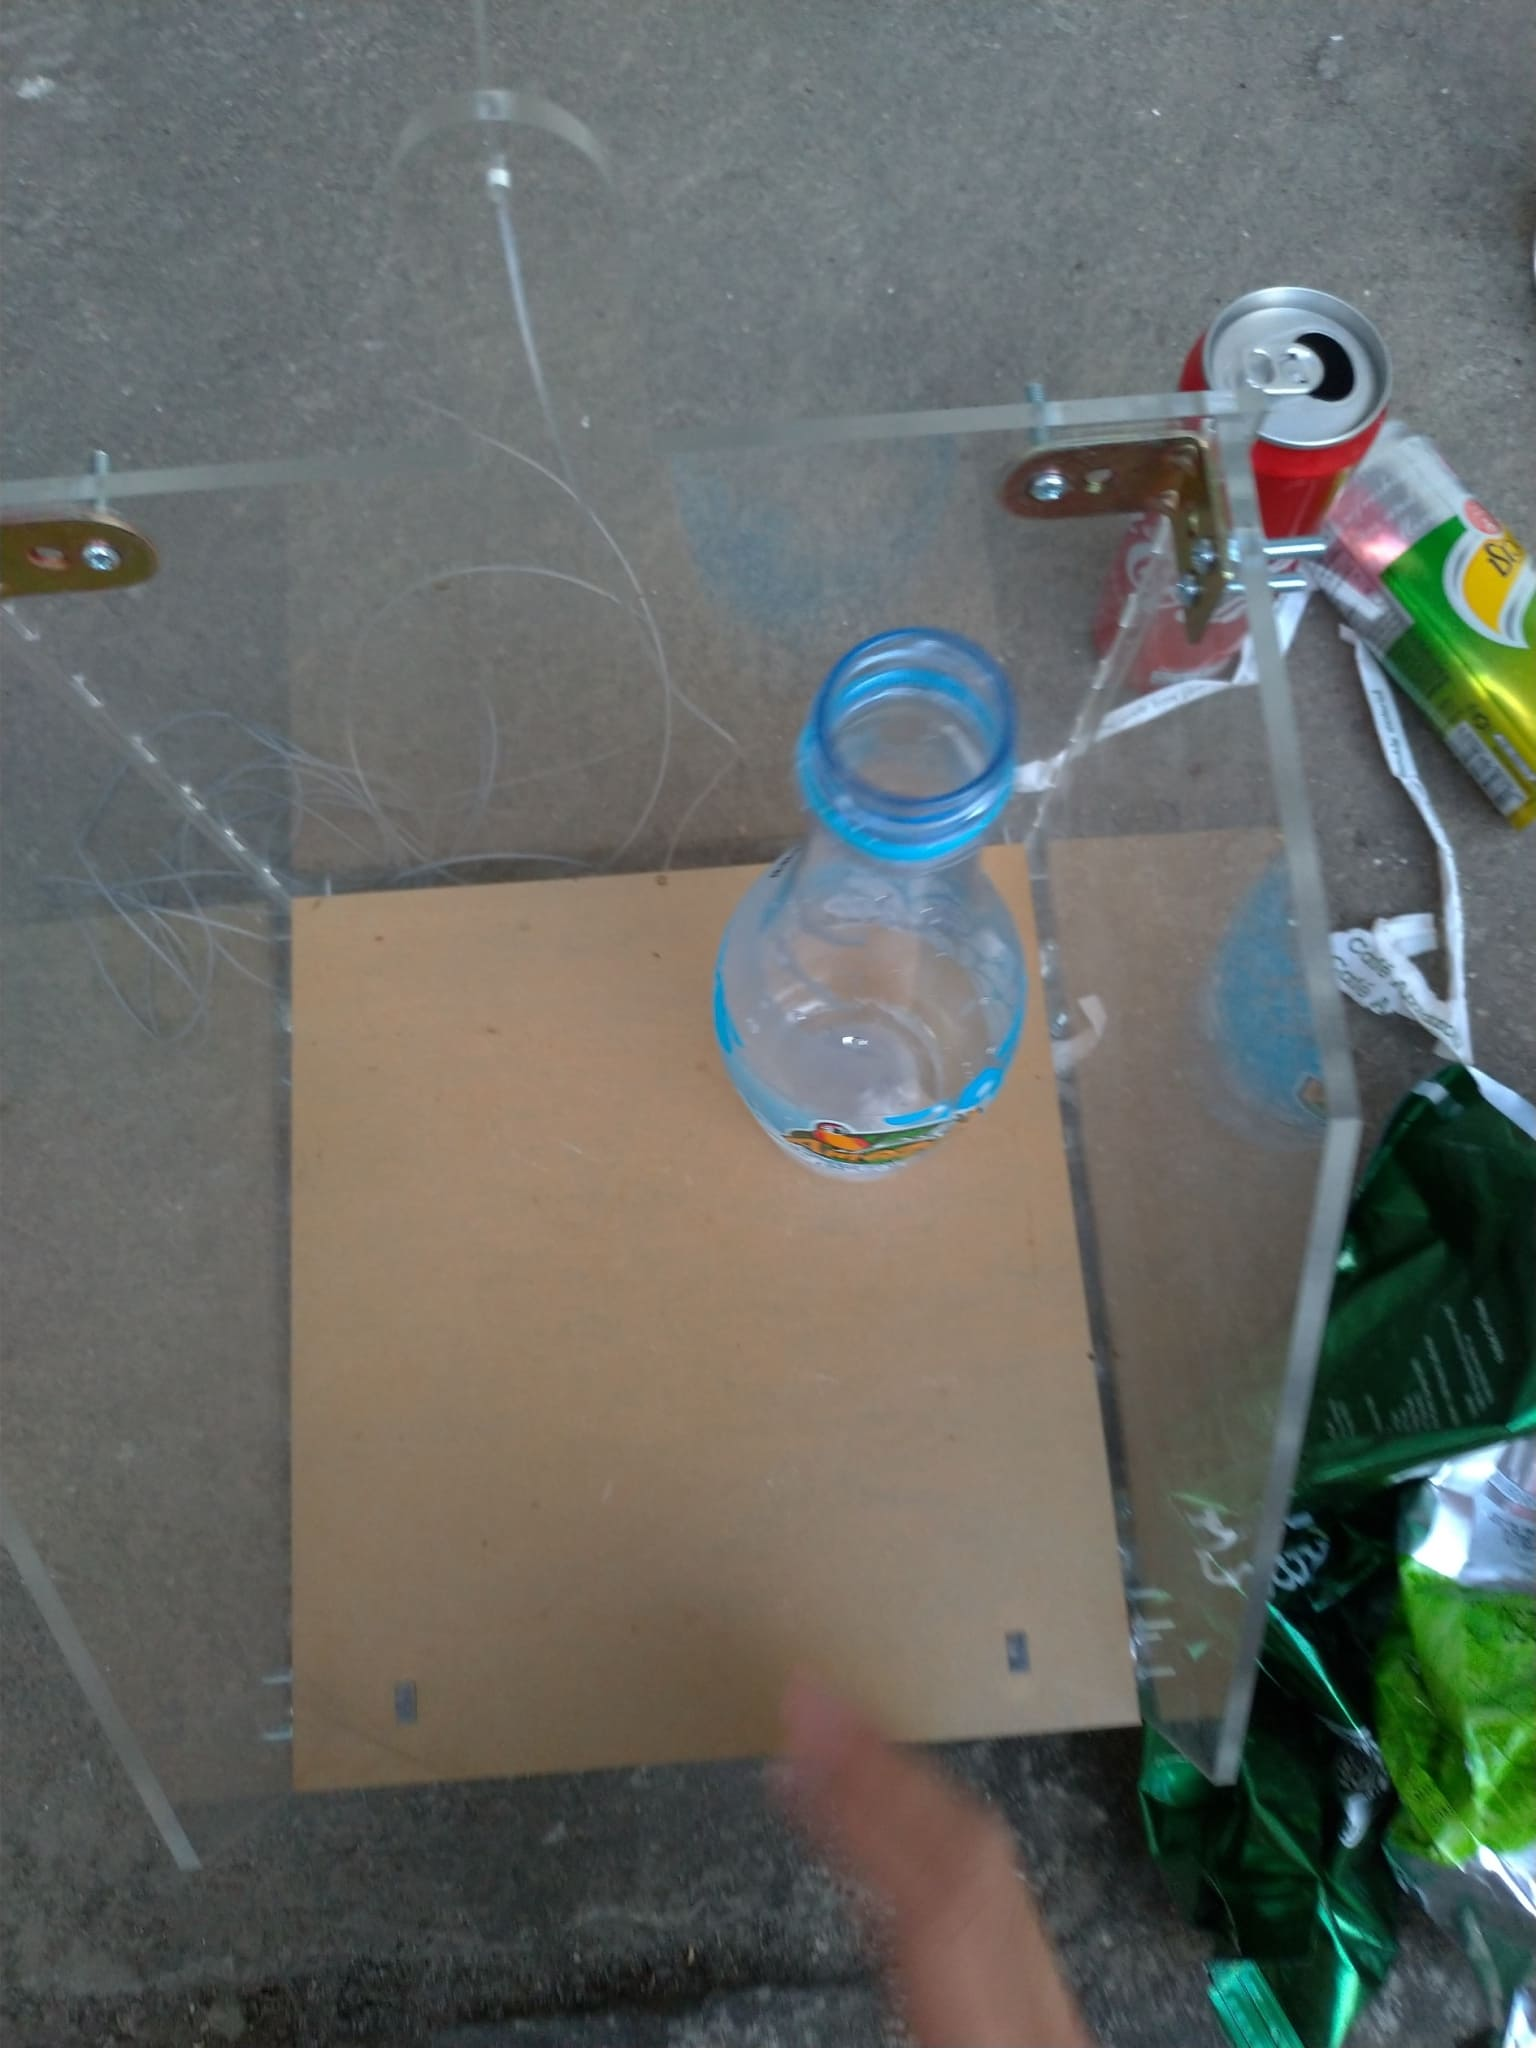AlCan: (1104, 274, 1391, 700), (1320, 429, 1533, 819)
Others: (1134, 1077, 1536, 2032), (1371, 1451, 1536, 2001), (1317, 626, 1471, 1048), (1021, 610, 1300, 774)
PlasticBottle: (708, 632, 1025, 1180)
